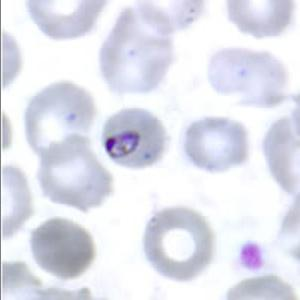Infected: (102, 110, 166, 169)
Uninfected: (98, 4, 171, 94), (23, 81, 93, 164), (38, 136, 111, 211), (143, 207, 213, 283), (208, 46, 285, 110), (28, 218, 93, 280), (183, 116, 252, 172)
